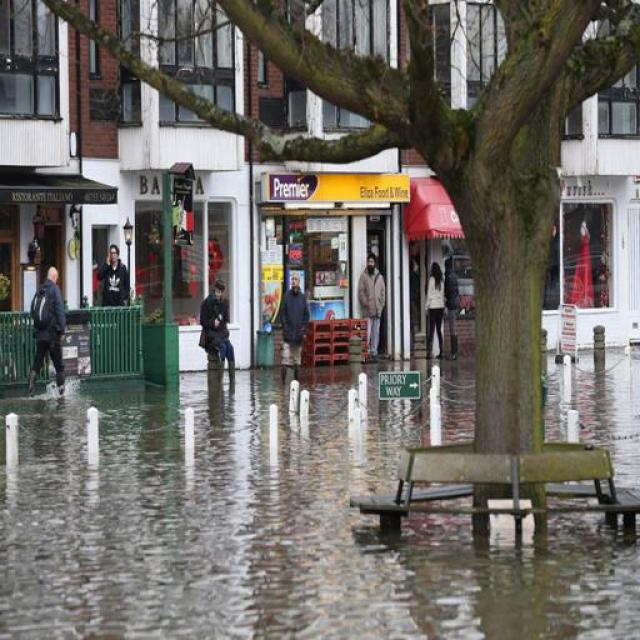puddle: (2, 393, 371, 640), (215, 526, 640, 640)
